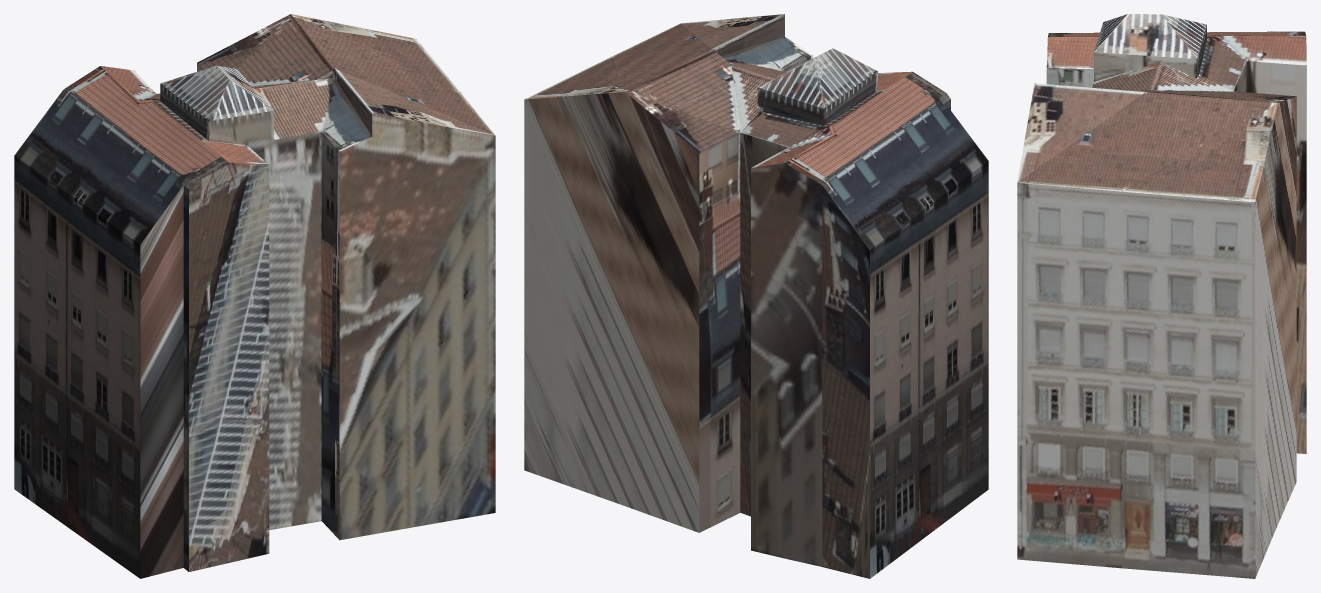
3 views of the same model, side by side, from view 1: azimuth 30°, elevation 25°; view 2: azimuth 150°, elevation 25°; view 3: azimuth 270°, elevation 25° (orthographic).
Parts seen in each view (by area): view 1: Z_UP; view 2: Z_UP; view 3: Z_UP.
Part boxes in pixels (left/top/right/bottom): Z_UP: left=14, top=14, right=495, bottom=578; Z_UP: left=524, top=14, right=988, bottom=578; Z_UP: left=1017, top=14, right=1306, bottom=578.
Bounding box in the file's own units: 25.53 × 28.82 × 17.02.
2 materials, 1 textured.
